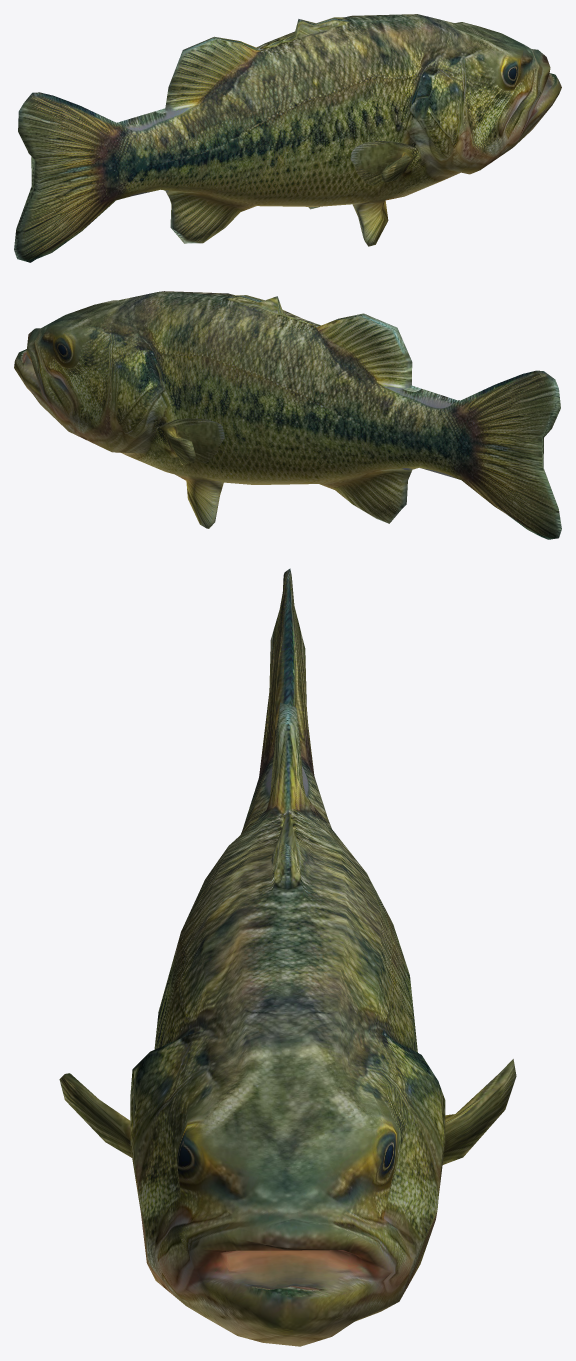
Rendered from bass.glb.
3 renders of one model, top to bottom at view 1: azimuth 30°, elevation 25°; view 2: azimuth 150°, elevation 25°; view 3: azimuth 270°, elevation 25°, orthographic. The views are drawn at different scales.
Parts seen in each view (by area): view 1: tripo_node_b40b4519; view 2: tripo_node_b40b4519; view 3: tripo_node_b40b4519.
Boxes of the visible parts, x1,y1,x2,y2 form: tripo_node_b40b4519: (14, 14, 561, 262); tripo_node_b40b4519: (14, 291, 561, 539); tripo_node_b40b4519: (59, 568, 516, 1346).
Bounding box in the file's own units: 97.5 × 38.08 × 35.45.
1 material, 1 textured.
